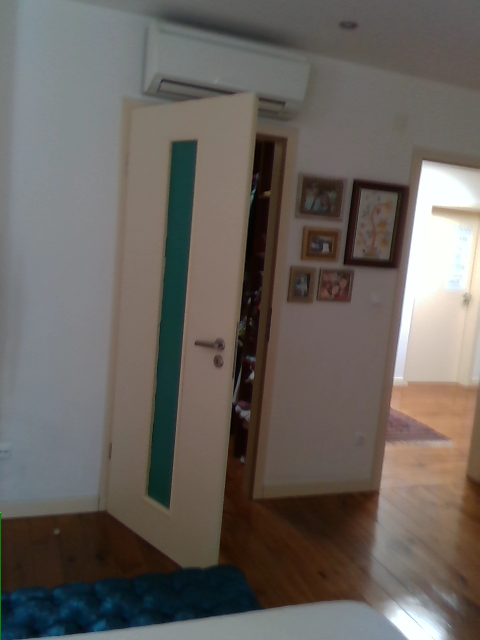semi: (102, 92, 300, 569)
